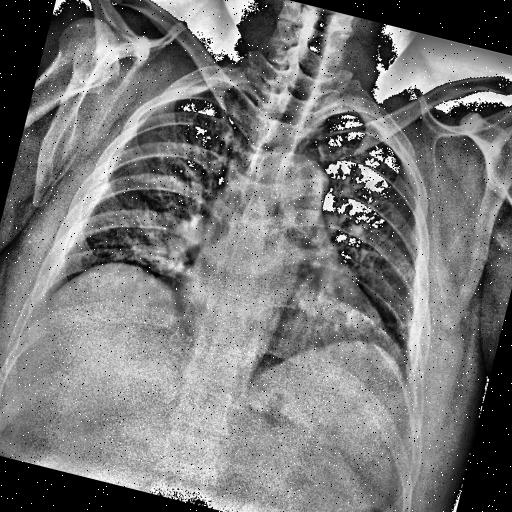0- Aortic enlargement: (262, 150, 336, 252), (272, 151, 336, 225)
3- Cardiomegaly: (166, 248, 412, 389), (169, 260, 396, 380), (180, 244, 397, 348)
